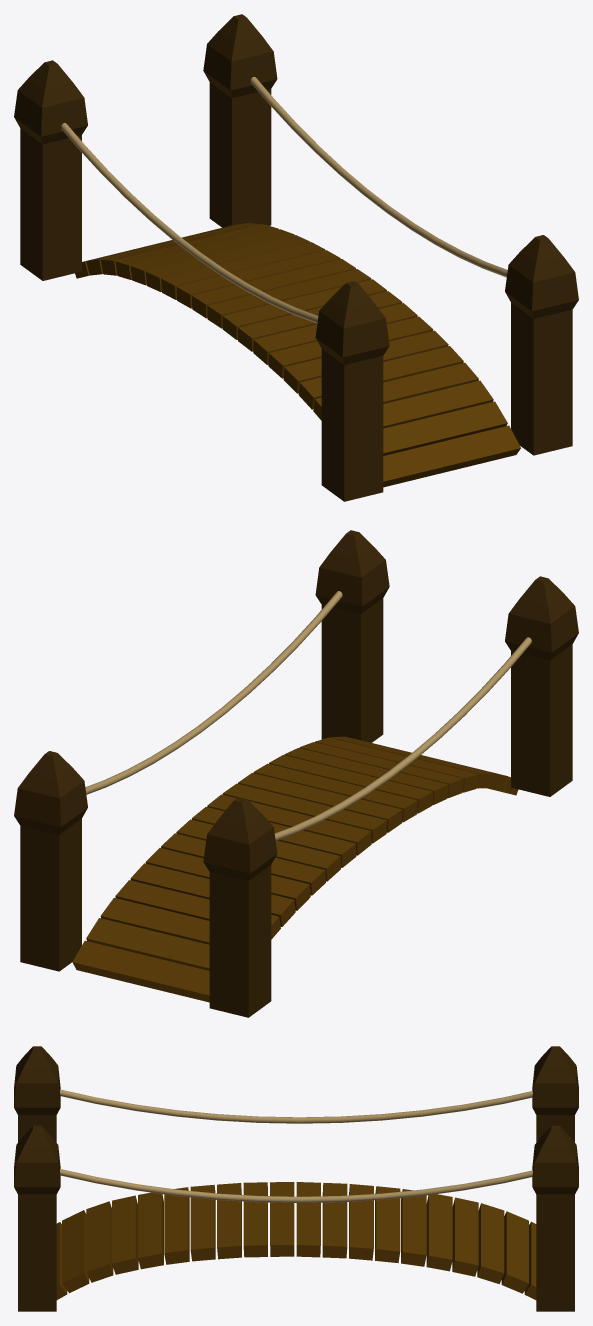
File: forGame2.fbx
The picture shows the model from 3 angles, top to bottom: view 1: azimuth 30°, elevation 25°; view 2: azimuth 150°, elevation 25°; view 3: azimuth 270°, elevation 25°; orthographic projection. The views are drawn at different scales.
Visible parts, largest first — view 1: Cube, Cube.001, Point.001; view 2: Cube, Cube.001, Point.001; view 3: Cube.001, Cube, Point.001.
Part boxes in pixels (<box>): Cube: <box>14,14,578,501</box>; Cube.001: <box>75,223,520,487</box>; Point.001: <box>61,77,507,323</box>; Cube: <box>14,530,578,1017</box>; Cube.001: <box>72,736,518,1002</box>; Point.001: <box>85,591,531,840</box>; Cube.001: <box>56,1182,536,1299</box>; Cube: <box>14,1046,578,1311</box>; Point.001: <box>60,1089,532,1202</box>.
Bounding box in the file's own units: 724 × 635 × 1744.
